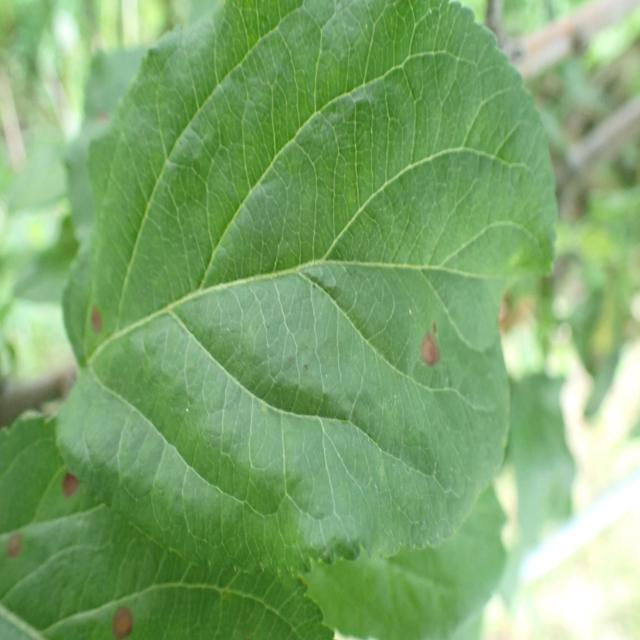Black Rot: (74, 286, 118, 362), (50, 448, 93, 518), (413, 315, 455, 376), (99, 592, 139, 640), (0, 519, 35, 570)
